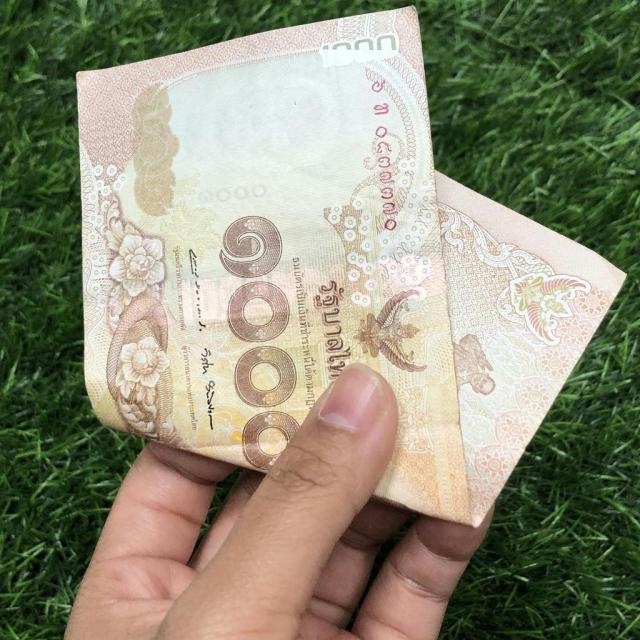THAI1000: (77, 8, 625, 526)
